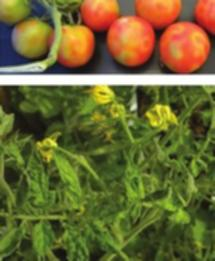Tomato leaf mosaic virus: (55, 154, 81, 210), (27, 151, 48, 211), (61, 228, 91, 261), (0, 220, 25, 257), (32, 218, 54, 259)
